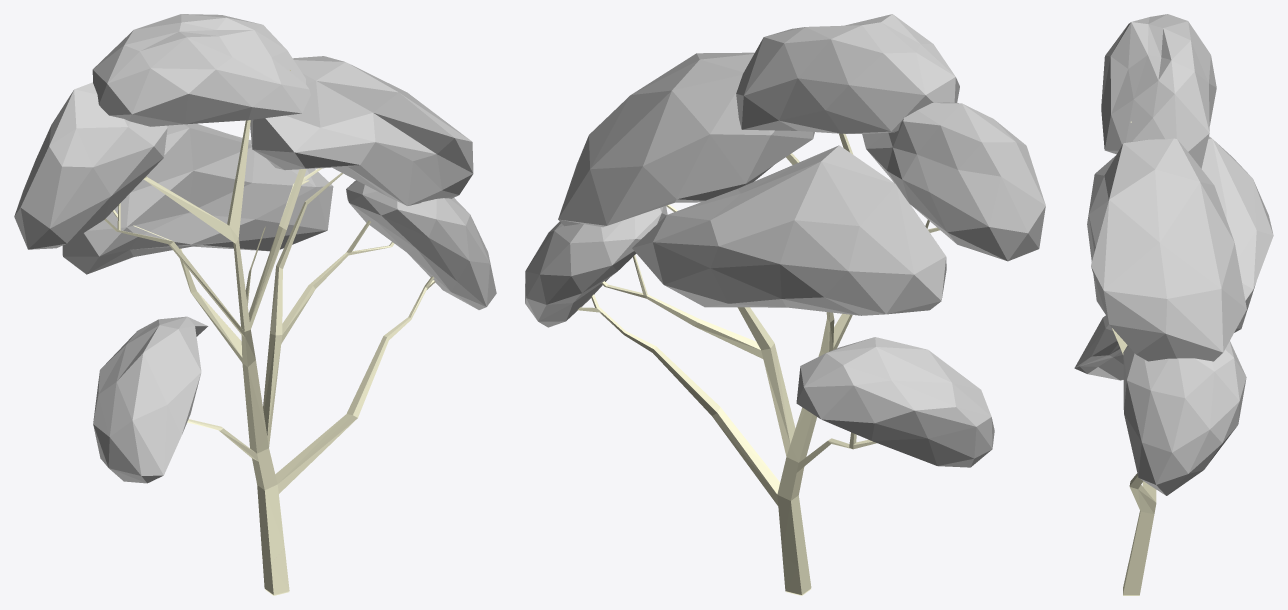
The model's file is GumtreeLowPoly.dae.
The picture shows the model from 3 angles, left to right: view 1: azimuth 30°, elevation 25°; view 2: azimuth 150°, elevation 25°; view 3: azimuth 270°, elevation 25°; orthographic projection. The views are drawn at different scales.
Visible parts, largest first — view 1: Icosphere_002, Icosphere_005, Icosphere_001, Cube, Icosphere, Icosphere_004, Icosphere_003, Cube_001; view 2: Icosphere_005, Icosphere_002, Icosphere_001, Icosphere, Icosphere_004, Cube, Icosphere_003, Cube_001; view 3: Icosphere_002, Icosphere_003, Icosphere_001, Icosphere_005, Icosphere_004, Cube, Cube_001.
Boxes of the visible parts, x1,y1,x2,y2 form: Icosphere_002: (250,56,473,205); Icosphere_005: (62,123,333,274); Icosphere_001: (92,14,310,126); Cube: (104,70,435,595); Icosphere: (14,82,167,249); Icosphere_004: (93,316,208,483); Icosphere_003: (346,180,496,309); Cube_001: (262,548,289,594); Icosphere_005: (632,145,946,315); Icosphere_002: (558,52,814,227); Icosphere_001: (736,14,959,133); Icosphere: (862,102,1045,261); Icosphere_004: (796,337,994,467); Cube: (577,133,939,595); Icosphere_003: (525,206,667,327); Cube_001: (782,554,811,594); Icosphere_002: (1087,138,1246,361); Icosphere_003: (1123,341,1246,495); Icosphere_001: (1101,14,1216,168); Icosphere_005: (1201,136,1273,332); Icosphere_004: (1074,315,1123,380); Cube: (1112,121,1156,595); Cube_001: (1123,558,1146,595).
Size of the model in its own units: 19.71 by 7.7 by 22.57.
